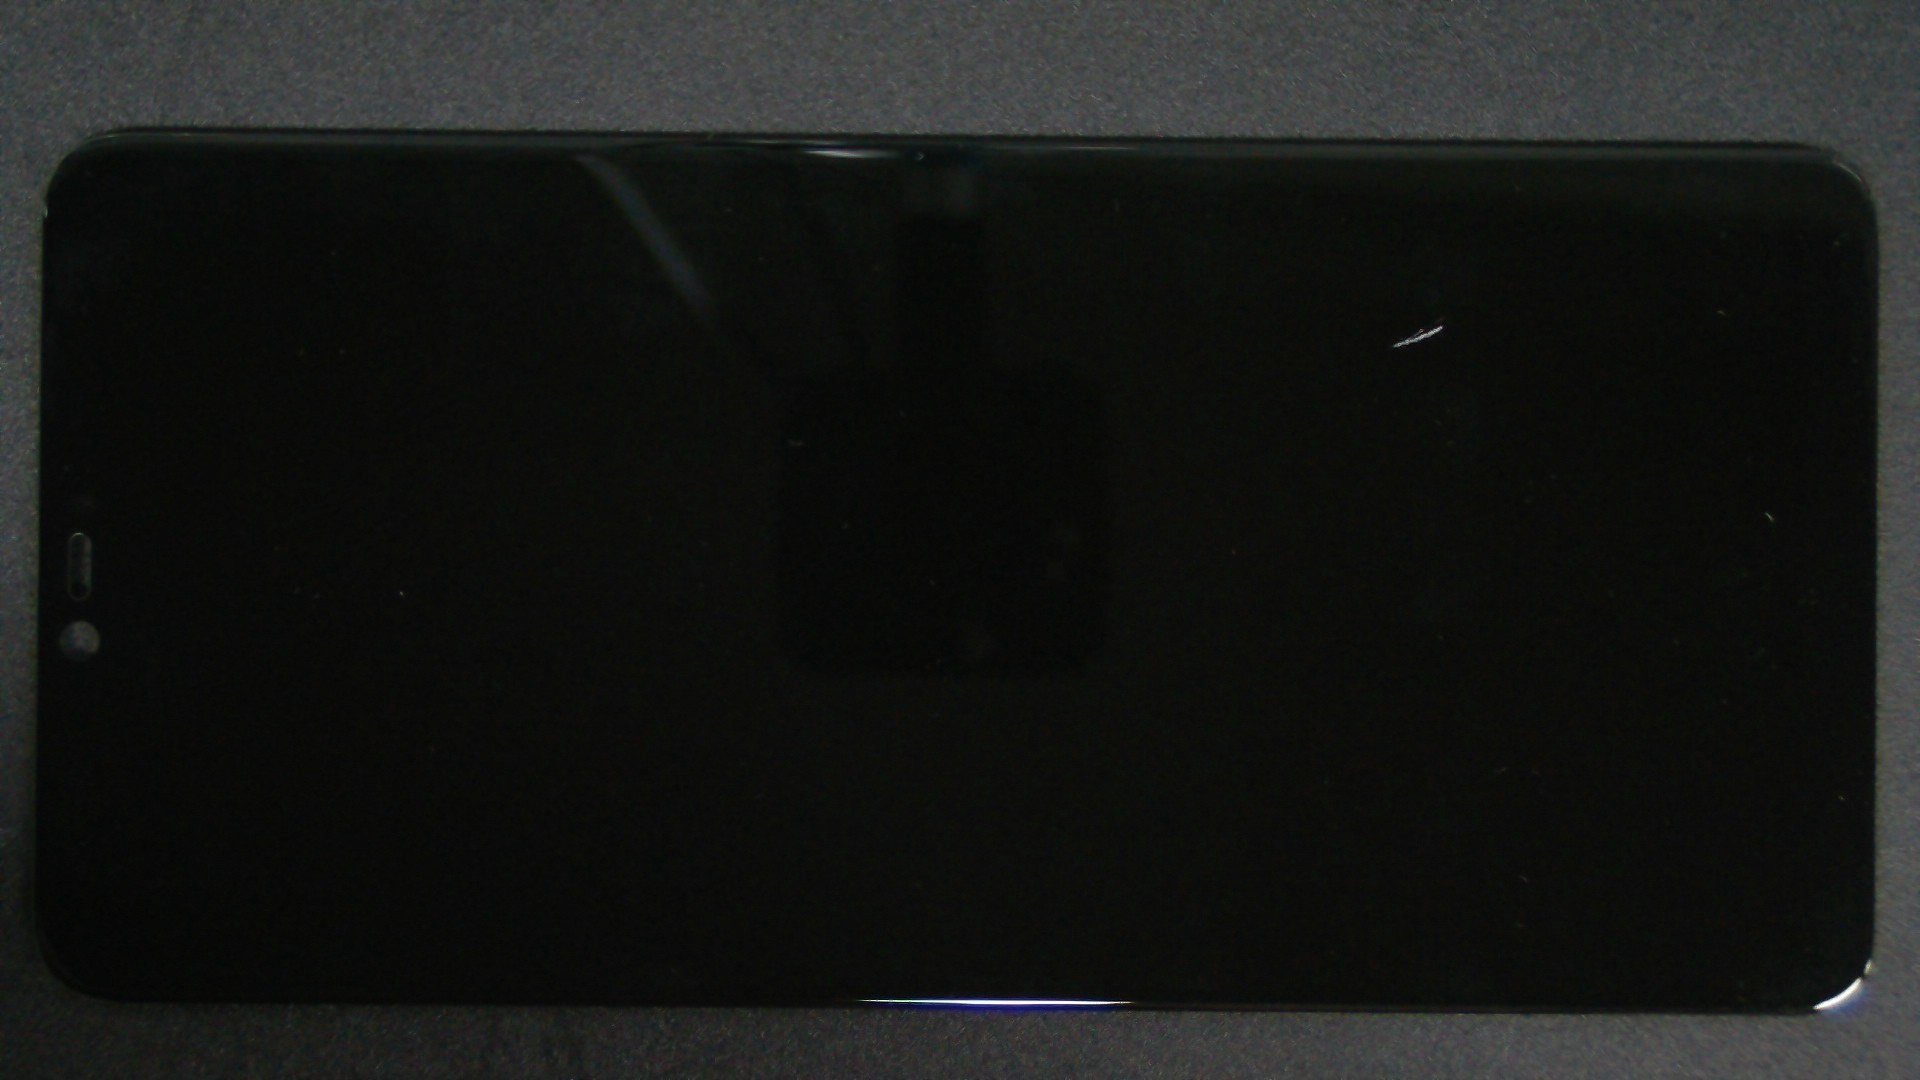oil: (721, 161, 1920, 487)
